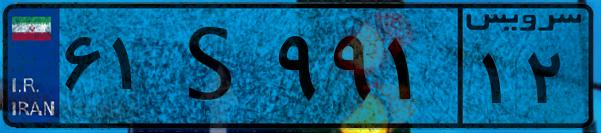1: (385, 28, 445, 110), (475, 38, 525, 113), (110, 28, 158, 98)
2: (525, 38, 570, 115)
6: (57, 26, 110, 100)
9: (270, 28, 330, 110), (330, 28, 385, 110)
S: (158, 12, 270, 120)
